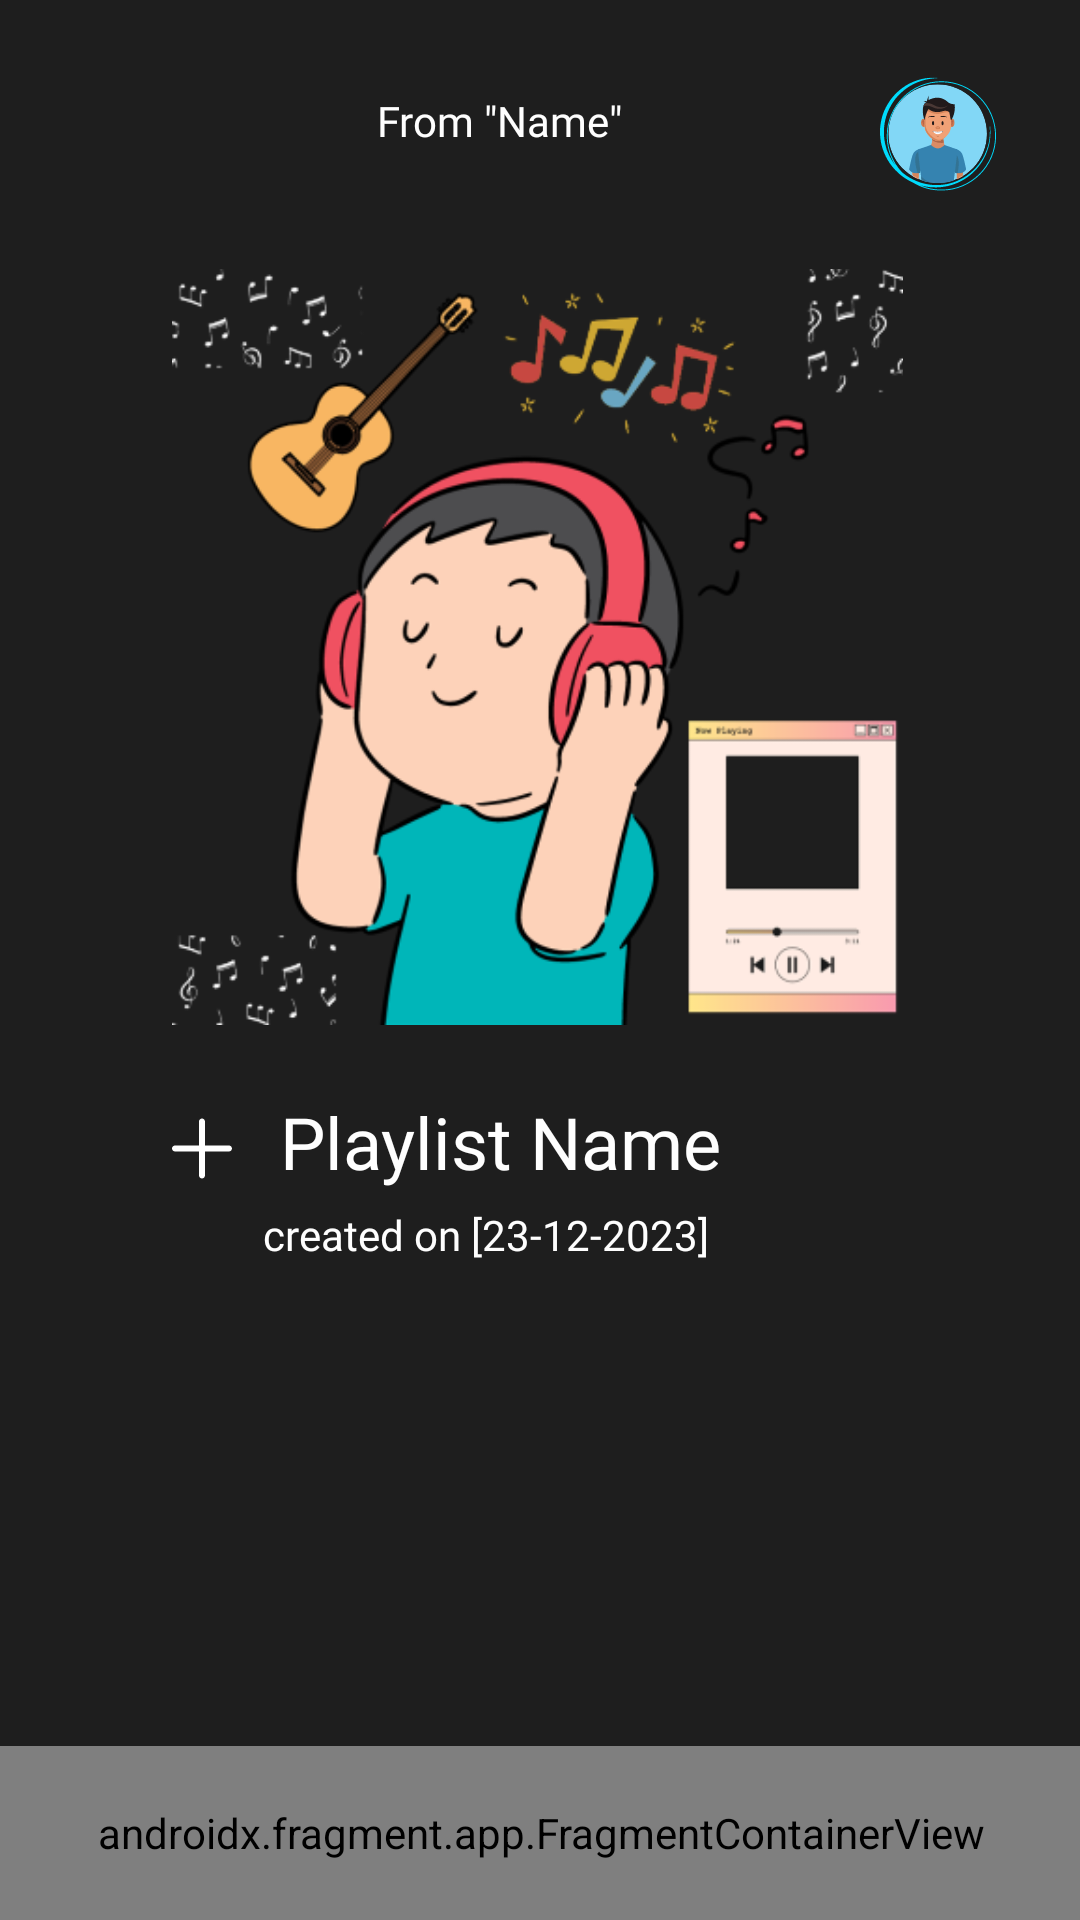

Named icons in this screenshot (1080w x 1920h) and their centers, point (x, y):
add: point (202, 1148)
profile photo: point (938, 134)
